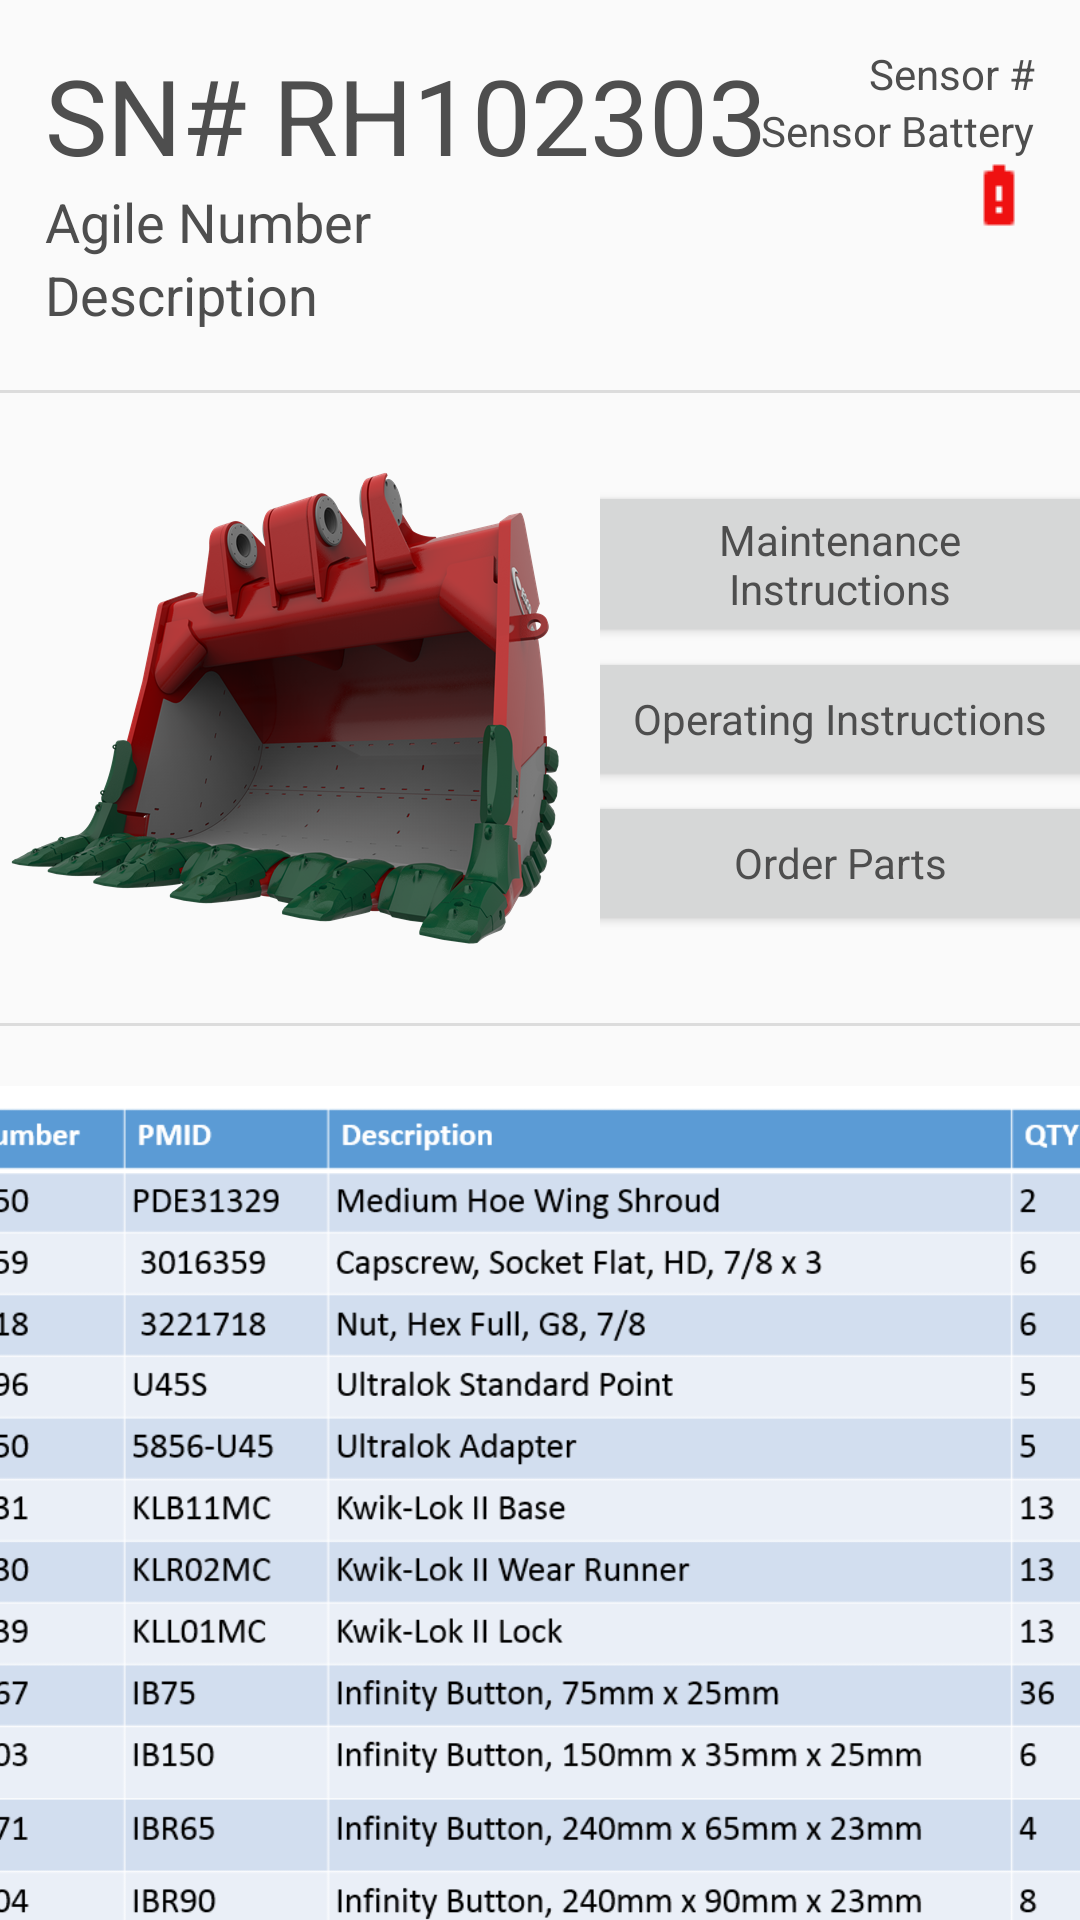

Icon click points for this 1080*1920 phone screenshot, format point (x, y):
batt warning: point (999, 195)
